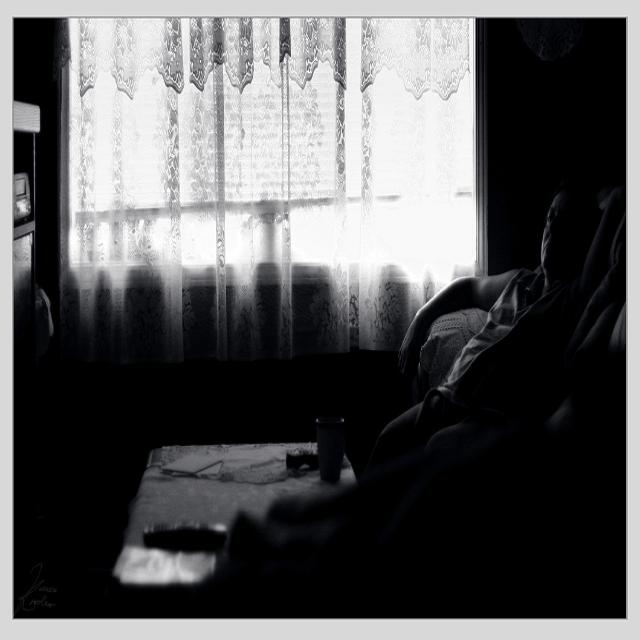People: (354, 171, 615, 640)
Table: (115, 405, 372, 640), (0, 57, 71, 521)
